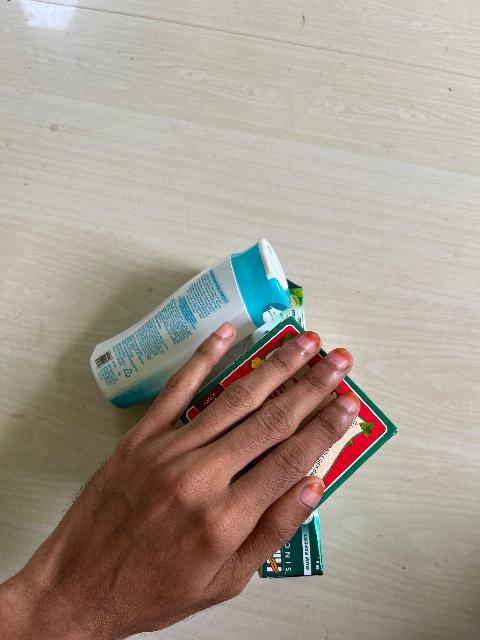boroplus: (93, 216, 309, 414)
hand: (132, 322, 368, 532)
